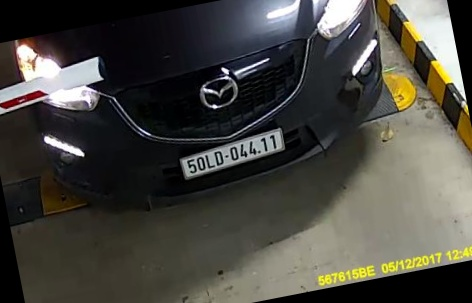plate: (171, 125, 291, 188)
